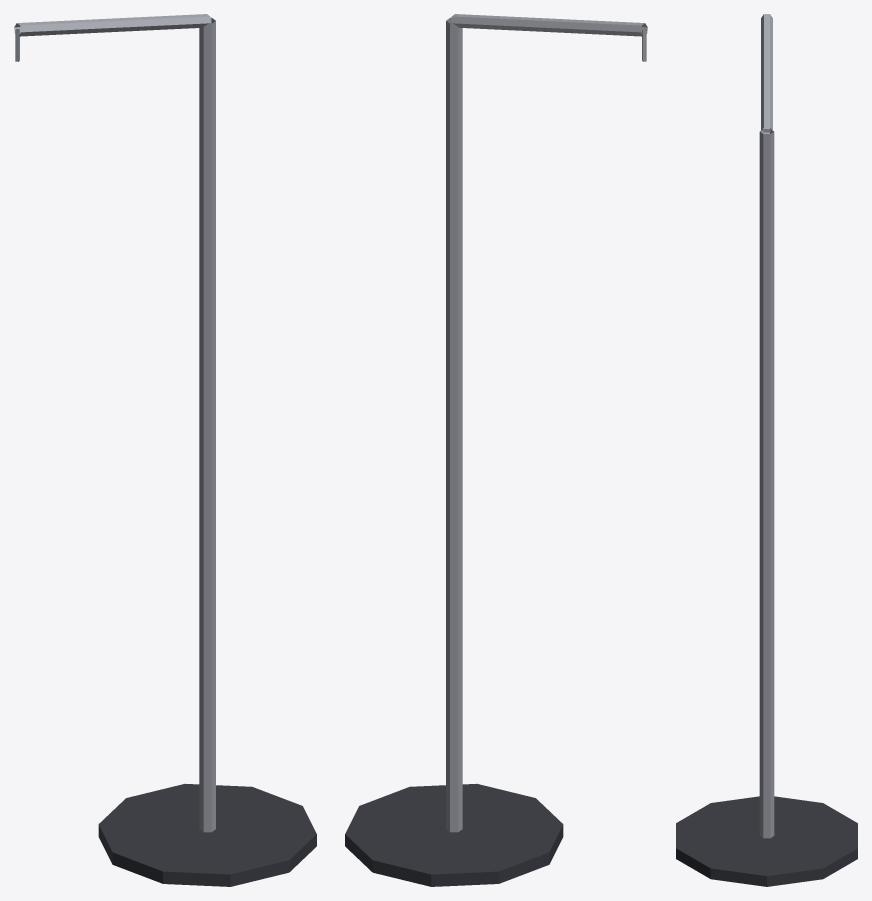
The model's file is LoonieStand.obj.
The picture shows the model from 3 angles, left to right: view 1: azimuth 30°, elevation 25°; view 2: azimuth 150°, elevation 25°; view 3: azimuth 270°, elevation 25°; orthographic projection. The views are drawn at different scales.
Visible parts, largest first — view 1: LoonieStand; view 2: LoonieStand; view 3: LoonieStand.
Boxes of the visible parts, x1,y1,x2,y2 form: LoonieStand: [14, 14, 316, 886]; LoonieStand: [345, 14, 647, 886]; LoonieStand: [676, 14, 857, 886].
Bounding box in the file's own units: 0.484 × 1.39 × 0.3044.
1 material, 1 textured.
